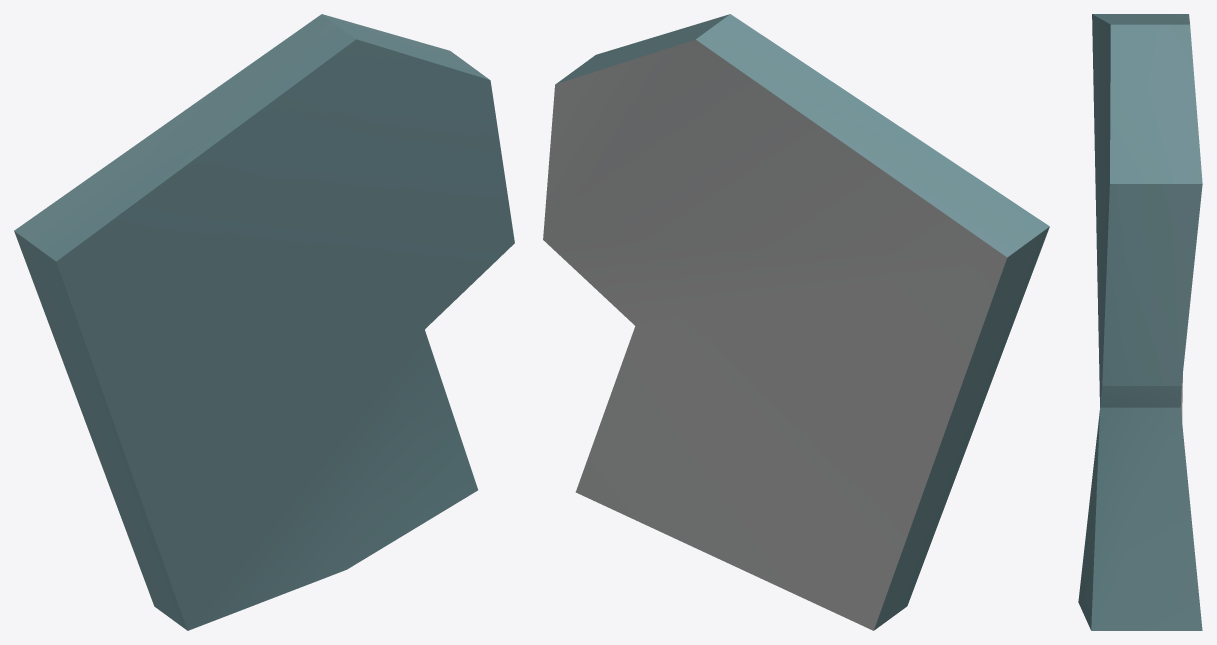
The model's file is IceDrift.009.glb.
The picture shows the model from 3 angles, left to right: view 1: azimuth 30°, elevation 25°; view 2: azimuth 150°, elevation 25°; view 3: azimuth 270°, elevation 25°; orthographic projection. The views are drawn at different scales.
Visible parts, largest first — view 1: IceDrift.009; view 2: IceDrift.009; view 3: IceDrift.009.
Boxes of the visible parts, x1=… form: IceDrift.009: x1=14, y1=14, x2=514, y2=630; IceDrift.009: x1=543, y1=14, x2=1049, y2=630; IceDrift.009: x1=1078, y1=14, x2=1202, y2=630.
Bounding box in the file's own units: 244 × 276 × 49.44.
